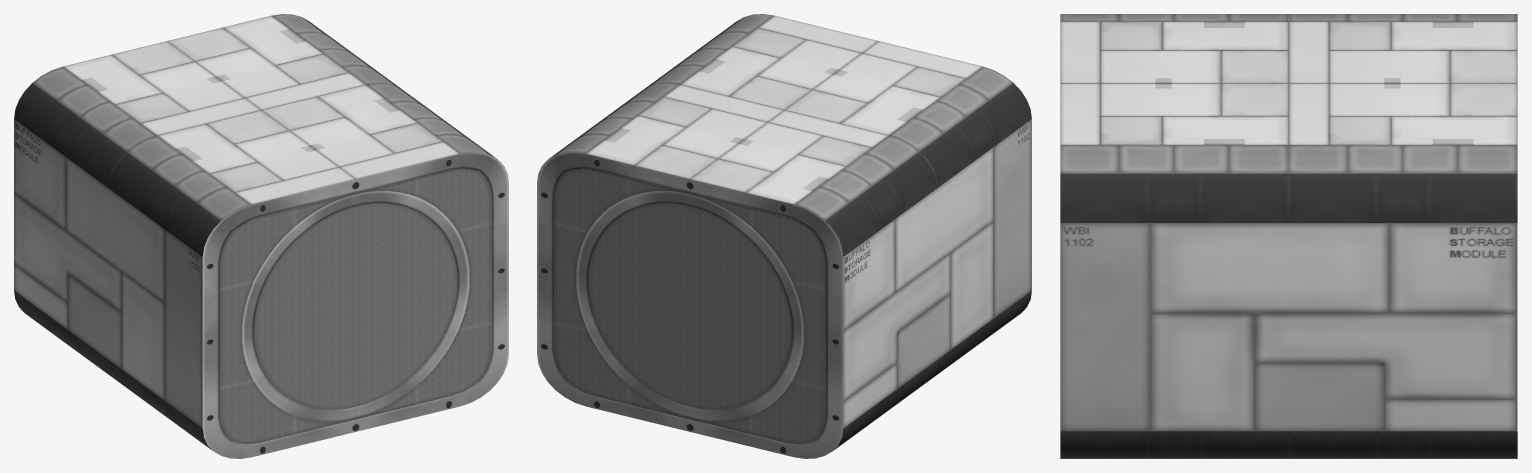
Rendered from Tundra300.FBX.
3 renders of one model, left to right at view 1: azimuth 30°, elevation 25°; view 2: azimuth 150°, elevation 25°; view 3: azimuth 270°, elevation 25°, orthographic. The views are drawn at different scales.
Parts seen in each view (by area): view 1: HardShell2U; view 2: HardShell2U; view 3: HardShell2U.
Boxes of the visible parts, x1=… form: HardShell2U: x1=14, y1=14, x2=508, y2=458; HardShell2U: x1=537, y1=14, x2=1031, y2=458; HardShell2U: x1=1060, y1=14, x2=1517, y2=458.
Size of what is drawn, in the model's own units: 1.59 by 1.25 by 1.69.
